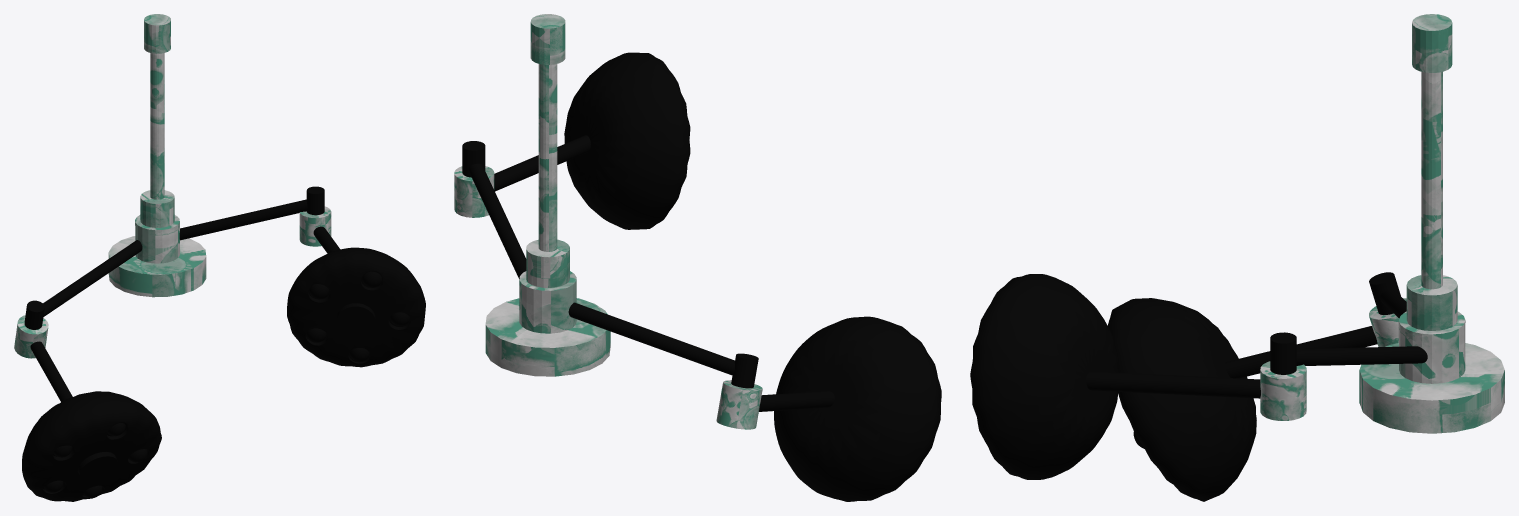
File: Operation Light.fbx
3 views of the same model, side by side, from view 1: azimuth 30°, elevation 25°; view 2: azimuth 150°, elevation 25°; view 3: azimuth 270°, elevation 25° (orthographic). The views are drawn at different scales.
Parts seen in each view (by area): view 1: Operation_Light1 (×2), Operation_Light, LightHub2 (×2), LightPole2_2, LightPole2, Operation_Light_Center2, Operation_Light_Center, LightHub, LightPole; view 2: Operation_Light1 (×2), Operation_Light, LightPole2 (×2), LightHub2 (×2), LightPole2_2, LightHub, LightPole; view 3: Operation_Light1 (×2), Operation_Light, LightHub2 (×2), LightPole2, LightPole2_2, LightPole, LightHub.
Boxes of the visible parts, <box> form: Operation_Light1 (×2): <box>22,247,425,501</box>; Operation_Light: <box>108,14,206,297</box>; LightHub2 (×2): <box>24,186,331,329</box>; LightPole2_2: <box>179,199,307,240</box>; LightPole2: <box>43,240,142,316</box>; Operation_Light_Center2: <box>336,303,375,337</box>; Operation_Light_Center: <box>77,452,117,481</box>; LightHub: <box>14,315,48,358</box>; LightPole: <box>30,341,72,402</box>; Operation_Light1 (×2): <box>564,52,941,501</box>; Operation_Light: <box>485,14,610,376</box>; LightPole2 (×2): <box>494,135,734,375</box>; LightHub2 (×2): <box>454,141,758,388</box>; LightPole2_2: <box>468,163,526,279</box>; LightHub: <box>716,380,762,429</box>; LightPole: <box>759,391,834,411</box>; Operation_Light1 (×2): <box>970,274,1256,501</box>; Operation_Light: <box>1359,14,1504,433</box>; LightHub2 (×2): <box>1260,272,1400,420</box>; LightPole2: <box>1086,371,1260,398</box>; LightPole2_2: <box>1296,346,1427,365</box>; LightPole: <box>1225,326,1377,378</box>; LightHub: <box>1369,298,1406,346</box>.
Bounding box in the file's own units: 15.9 × 17.48 × 14.68.
Materials: 3 (1 with a texture image).
